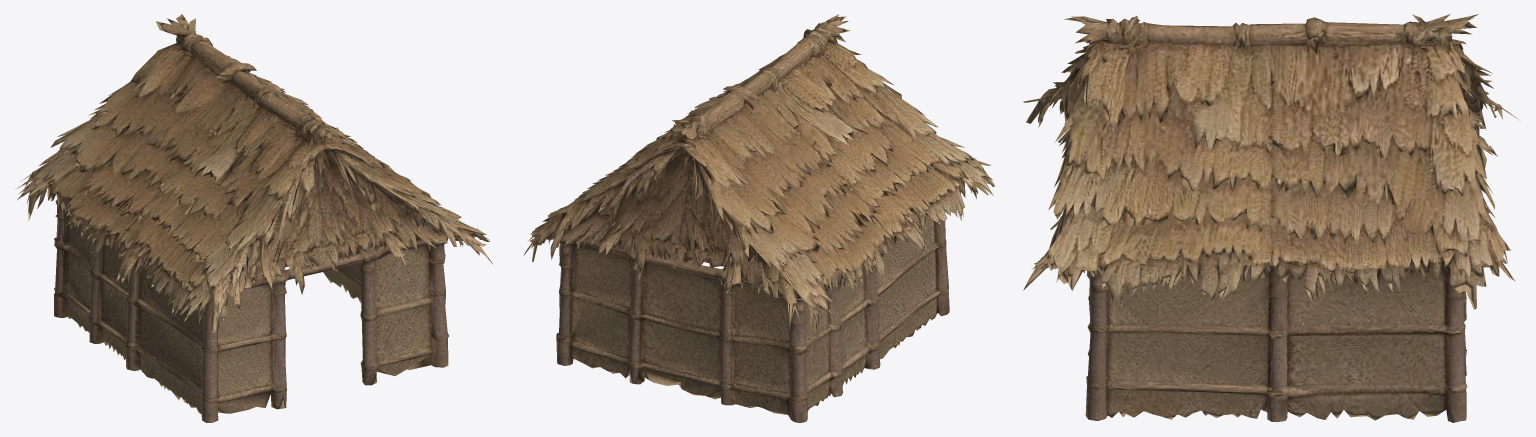
File: coast_barasti.glb
The picture shows the model from 3 angles, left to right: view 1: azimuth 30°, elevation 25°; view 2: azimuth 150°, elevation 25°; view 3: azimuth 270°, elevation 25°; orthographic projection. The views are drawn at different scales.
Bounding box in the file's own units: 0.8726 × 0.7273 × 0.9742.
Materials: 1 (1 with a texture image).
